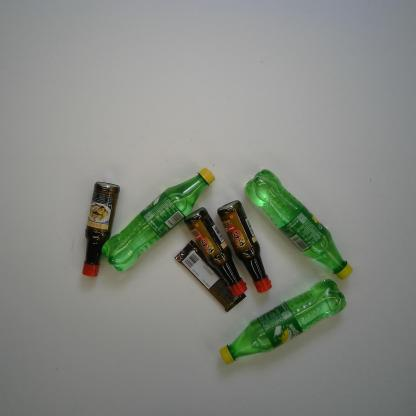Chocolate: (174, 239, 247, 313)
Drink: (243, 168, 354, 282), (100, 166, 216, 272), (218, 279, 347, 366)
Seasoner: (183, 206, 248, 297), (216, 199, 272, 294), (82, 181, 121, 278)
